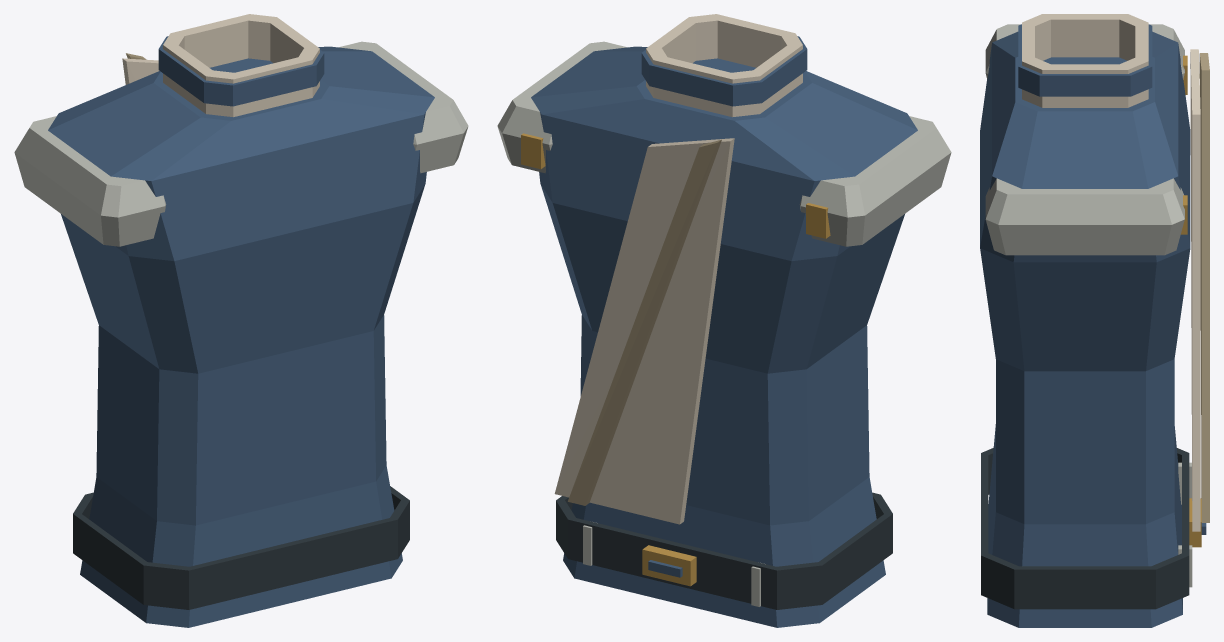
File: visual-far.glb
3 renders of one model, left to right at view 1: azimuth 30°, elevation 25°; view 2: azimuth 150°, elevation 25°; view 3: azimuth 270°, elevation 25°, orthographic.
Parts seen in each view (by area): view 1: 现有程序躯干 · 同用途配色; view 2: 现有程序躯干 · 同用途配色; view 3: 现有程序躯干 · 同用途配色.
Part boxes in pixels (x1,y1,x2,y2): 现有程序躯干 · 同用途配色: (14, 14, 468, 627); 现有程序躯干 · 同用途配色: (497, 14, 951, 627); 现有程序躯干 · 同用途配色: (980, 14, 1209, 627).
Bounding box in the file's own units: 0.458 × 0.62 × 0.247.
6 materials, 6 textured.
